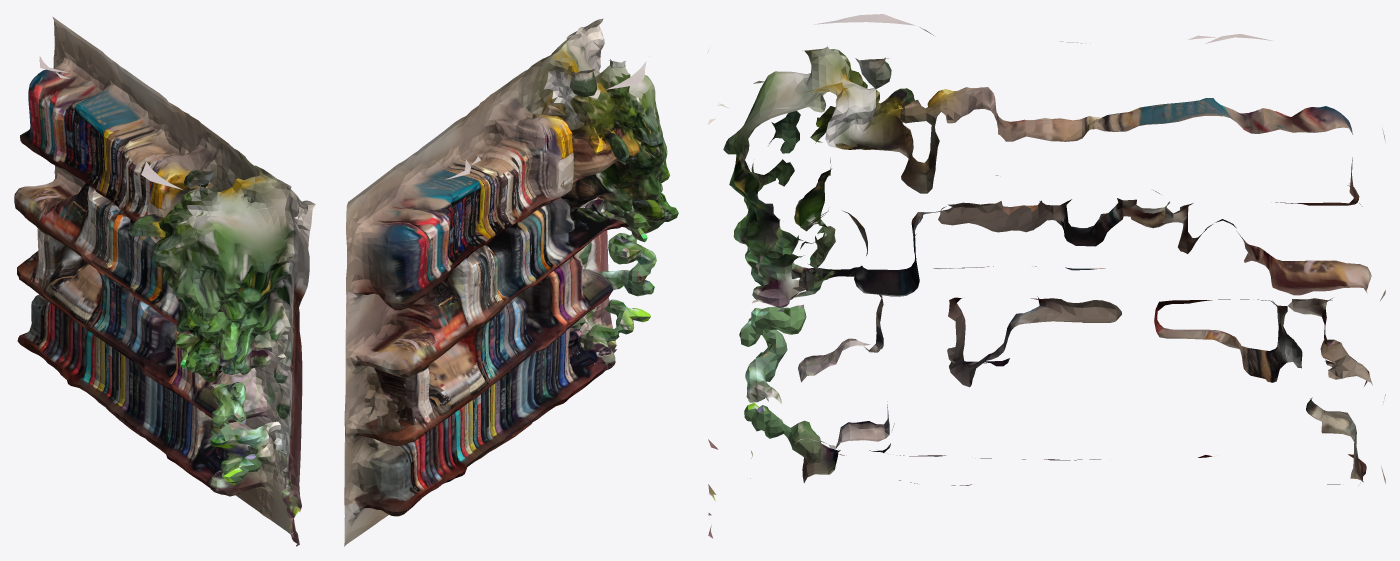
Rendered from bookshelf12.glb.
The picture shows the model from 3 angles, left to right: view 1: azimuth 30°, elevation 25°; view 2: azimuth 150°, elevation 25°; view 3: azimuth 270°, elevation 25°; orthographic projection. The views are drawn at different scales.
Bounding box in the file's own units: 0.4956 × 1.44 × 1.89.
1 material, 1 textured.
